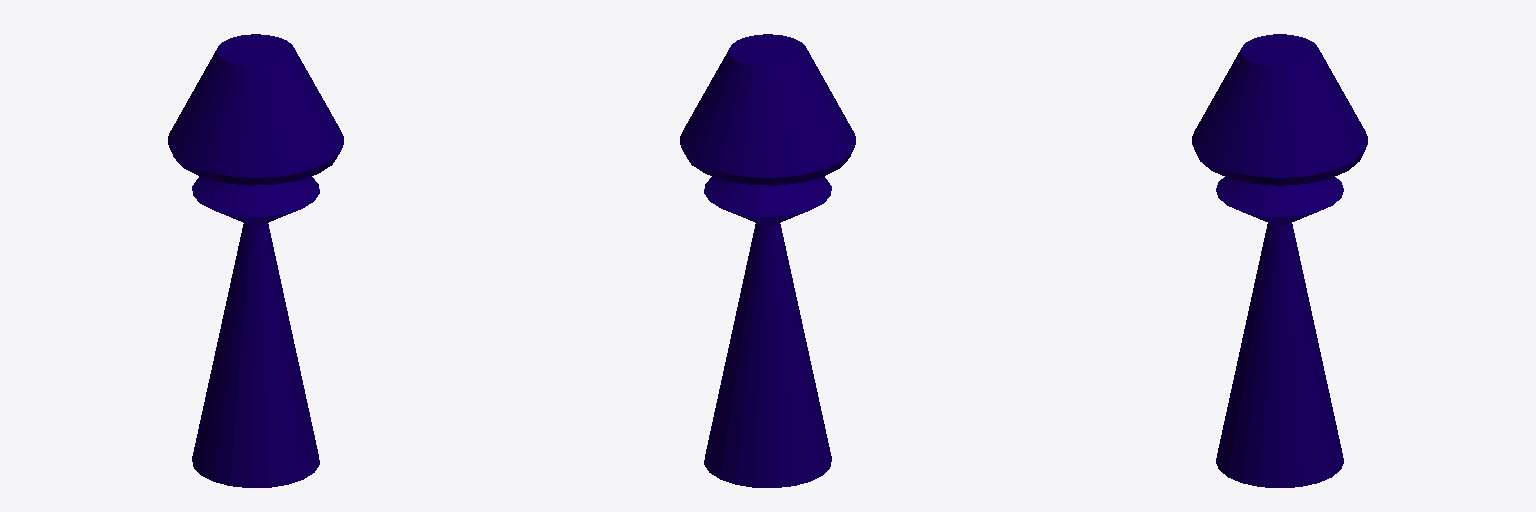
File: TextureLamp.obj
3 views of the same model, side by side, from view 1: azimuth 30°, elevation 25°; view 2: azimuth 150°, elevation 25°; view 3: azimuth 270°, elevation 25° (orthographic).
Parts seen in each view (by area): view 1: pCylinder3; view 2: pCylinder3; view 3: pCylinder3.
Boxes of the visible parts, x1=… form: pCylinder3: x1=168, y1=34, x2=343, y2=487; pCylinder3: x1=680, y1=34, x2=855, y2=487; pCylinder3: x1=1192, y1=34, x2=1367, y2=487.
Bounding box in the file's own units: 2.43 × 6.27 × 2.43.